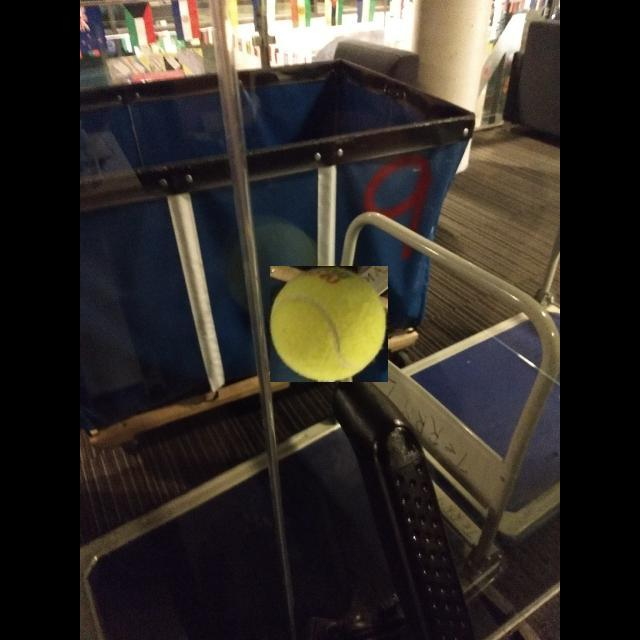tennis ball: (270, 266, 388, 382)
